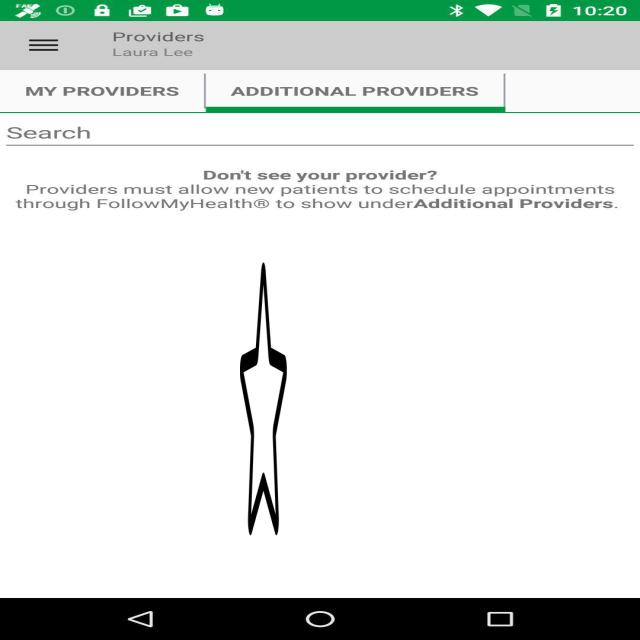forced continuity: (240, 256, 287, 541)
